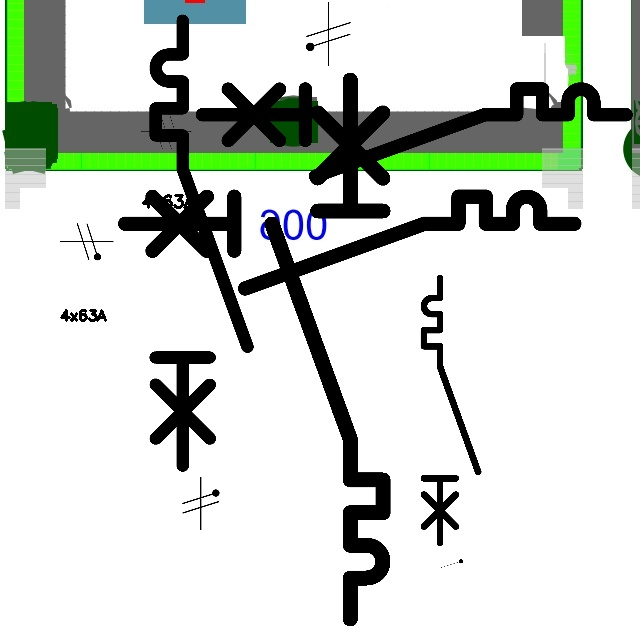interruptor_termomagnetico: (258, 66, 397, 633), (113, 185, 585, 300), (144, 9, 258, 477), (191, 78, 637, 187), (417, 271, 485, 550)
